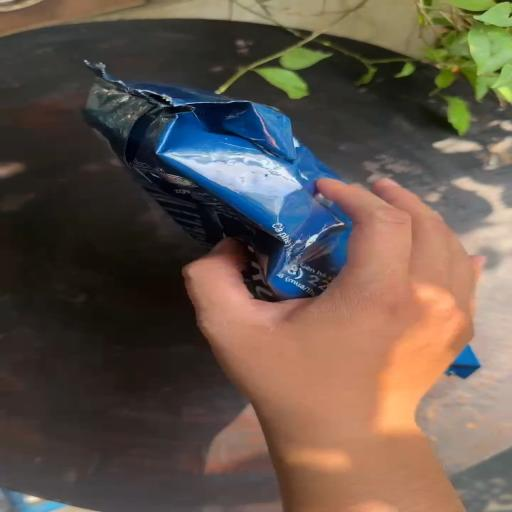cafe_hat: (84, 62, 351, 301)
